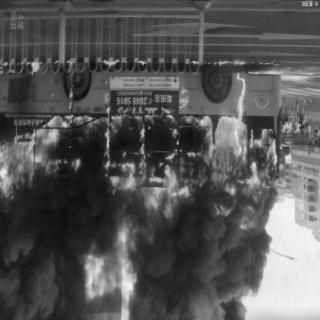Fire: (1, 115, 285, 242)
Smoke: (3, 170, 96, 316)
